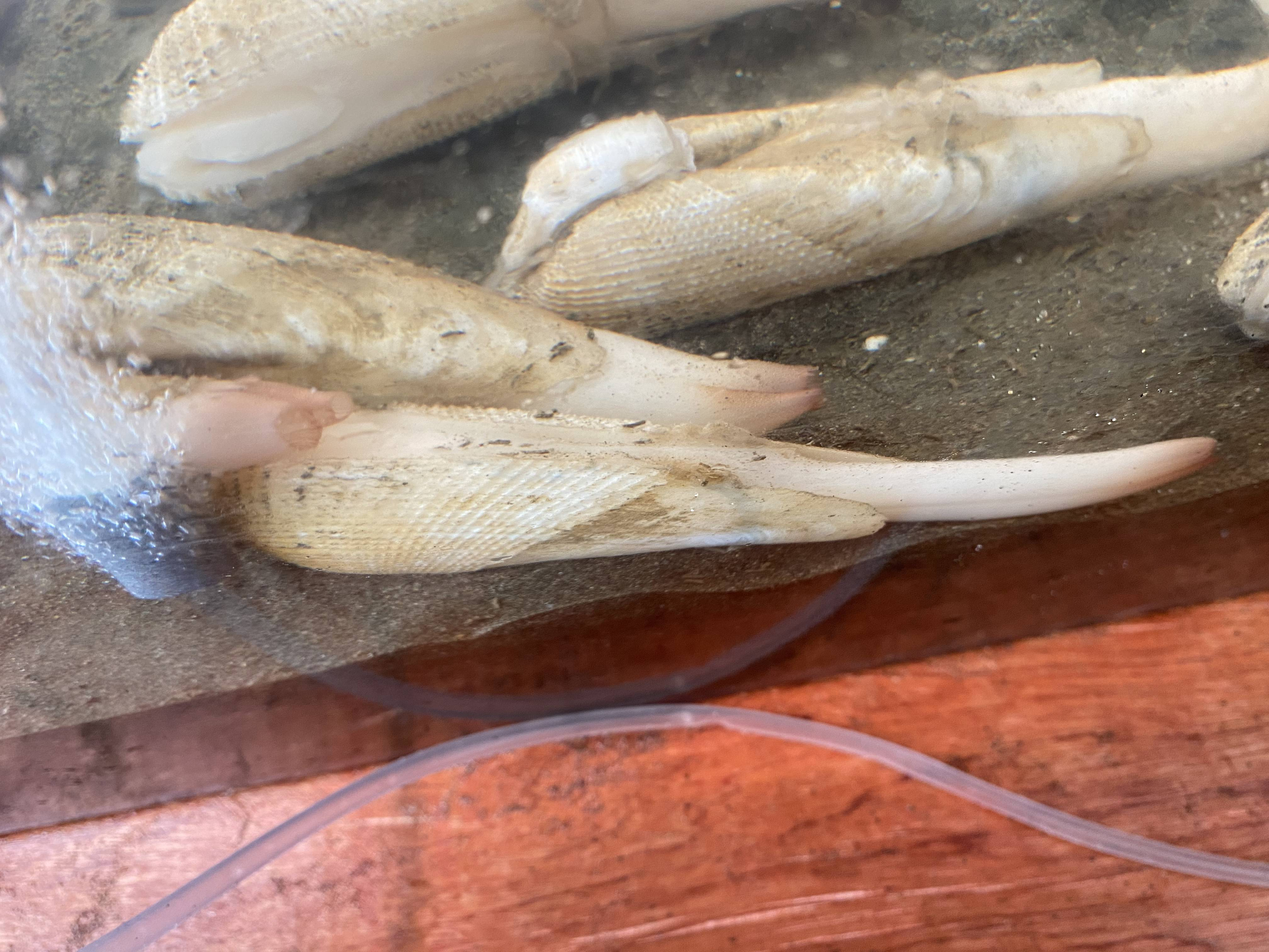Healthy: (490, 60, 1269, 333), (0, 215, 819, 432), (232, 404, 1213, 573), (161, 377, 351, 472)
